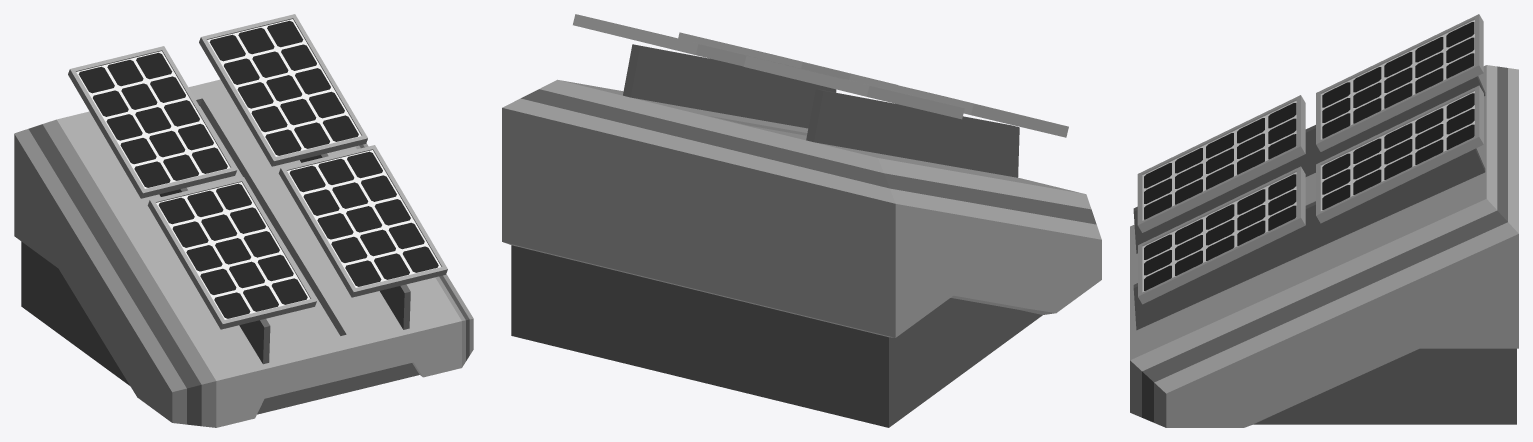
File: solar_panel_structure.glb
The picture shows the model from 3 angles, left to right: view 1: azimuth 30°, elevation 25°; view 2: azimuth 150°, elevation 25°; view 3: azimuth 270°, elevation 25°; orthographic projection. The views are drawn at different scales.
Parts seen in each view (by area): view 1: SolarPanel_Structure; view 2: SolarPanel_Structure; view 3: SolarPanel_Structure.
Part boxes in pixels (x1,y1,x2,y2): SolarPanel_Structure: (14,14,473,427); SolarPanel_Structure: (502,14,1101,427); SolarPanel_Structure: (1130,14,1518,427).
Size of the model in its own units: 4 by 3.07 by 4.
1 material, 1 textured.
